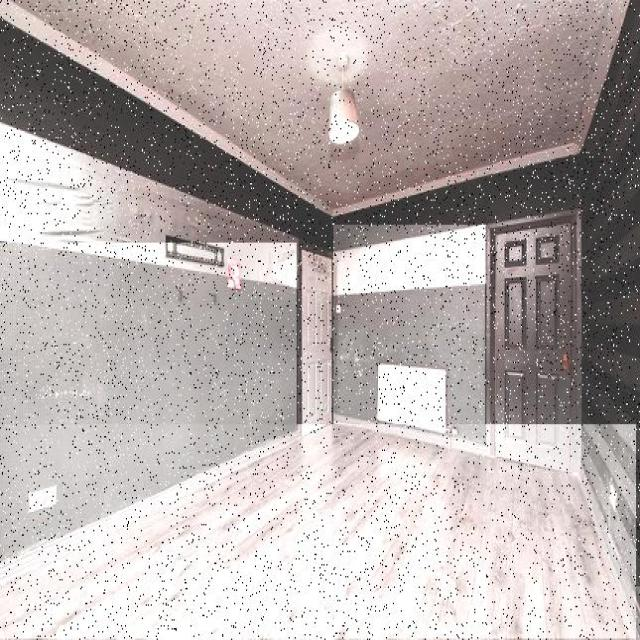Wall: (0, 0, 640, 586), (0, 425, 636, 639), (0, 0, 626, 214), (0, 244, 297, 561), (0, 125, 299, 287), (334, 225, 485, 444), (327, 49, 365, 149), (339, 148, 364, 206), (26, 485, 60, 520), (3, 520, 26, 547), (58, 506, 62, 522)
